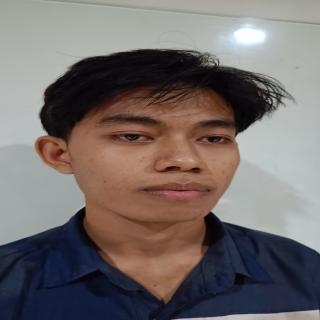Netral: (65, 68, 256, 231)
